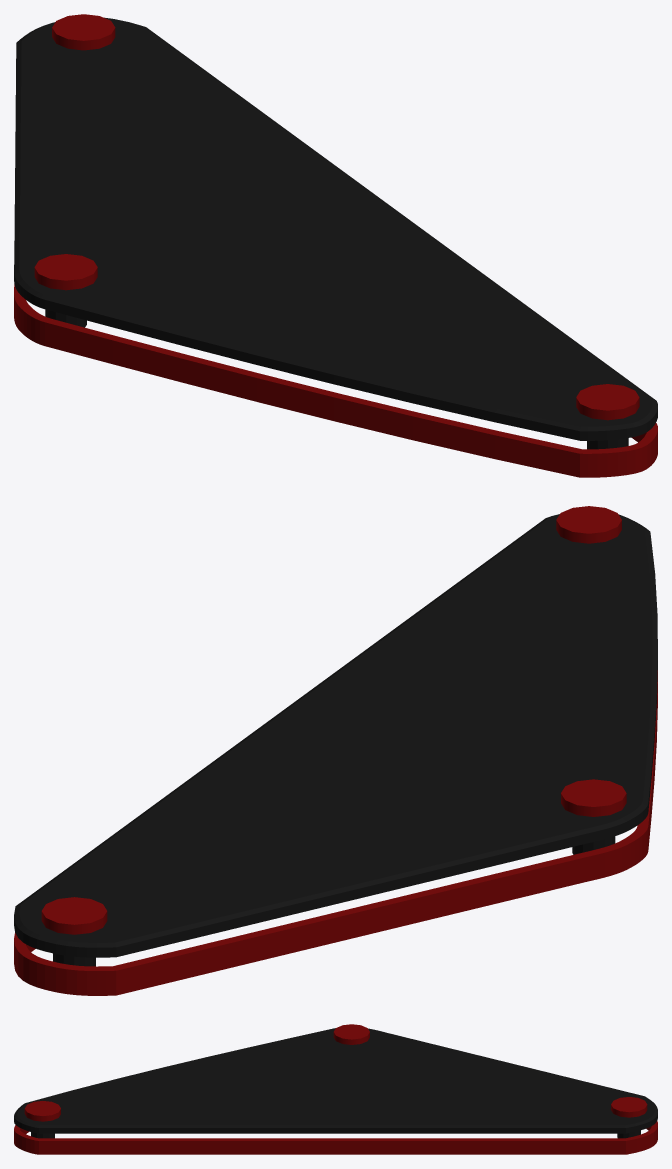
Rendered from Slingshot.FBX.
3 renders of one model, top to bottom at view 1: azimuth 30°, elevation 25°; view 2: azimuth 150°, elevation 25°; view 3: azimuth 270°, elevation 25°, orthographic. The views are drawn at different scales.
Visible parts, largest first — view 1: Line002; view 2: Line002; view 3: Line002.
Boxes of the visible parts, bbox=[...] form: Line002: bbox=[14, 14, 657, 477]; Line002: bbox=[14, 506, 657, 995]; Line002: bbox=[14, 1024, 657, 1154].
Size of the model in its own units: 39.37 by 6.1 by 106.
